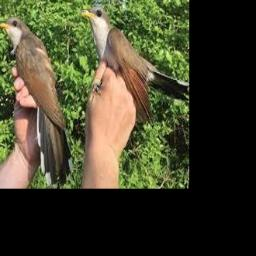Cuckoo: (81, 6, 189, 126), (0, 17, 71, 186)
